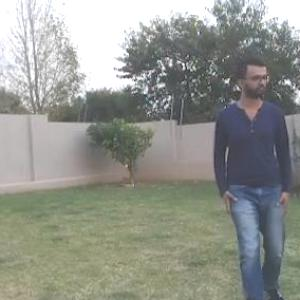follow: (214, 52, 297, 299)
